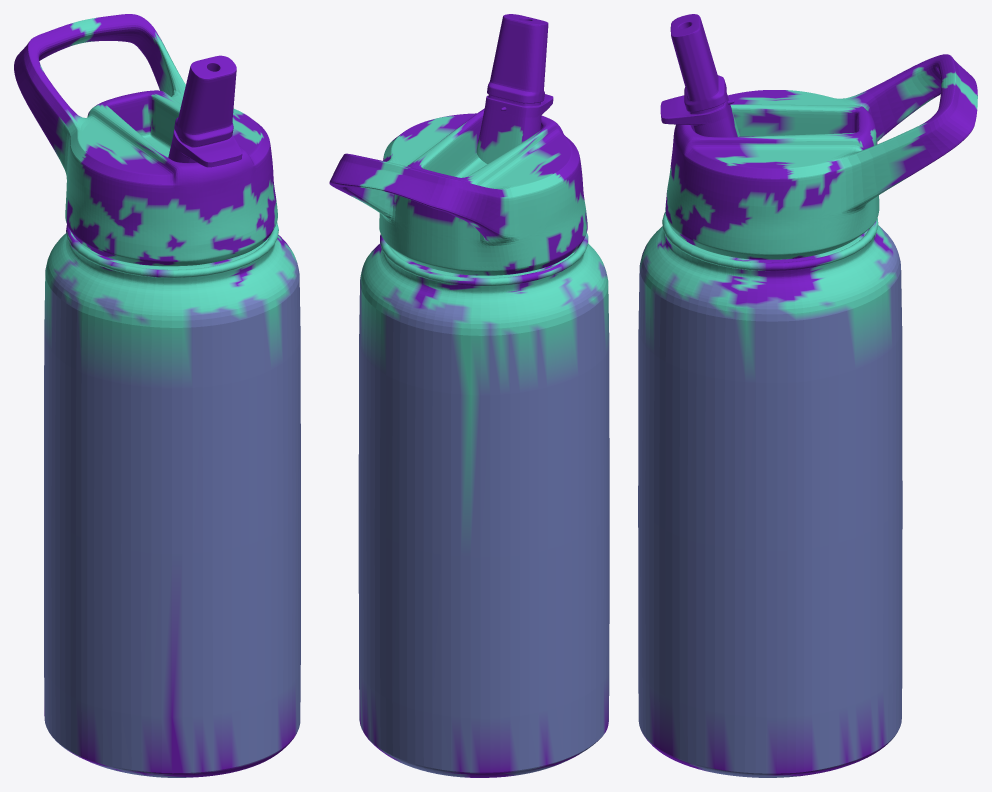
The picture shows the model from 3 angles, left to right: view 1: azimuth 30°, elevation 25°; view 2: azimuth 150°, elevation 25°; view 3: azimuth 270°, elevation 25°; orthographic projection. The views are drawn at different scales.
Visible parts, largest first — view 1: 8a5c0fd0d4bc45128f3ee5c65a32e54f.ply; view 2: 8a5c0fd0d4bc45128f3ee5c65a32e54f.ply; view 3: 8a5c0fd0d4bc45128f3ee5c65a32e54f.ply.
Boxes of the visible parts, bbox=[...] form: 8a5c0fd0d4bc45128f3ee5c65a32e54f.ply: bbox=[14, 14, 300, 777]; 8a5c0fd0d4bc45128f3ee5c65a32e54f.ply: bbox=[329, 14, 609, 777]; 8a5c0fd0d4bc45128f3ee5c65a32e54f.ply: bbox=[638, 14, 977, 777].
Size of the model in its own units: 0.3317 by 0.9959 by 0.4337.
